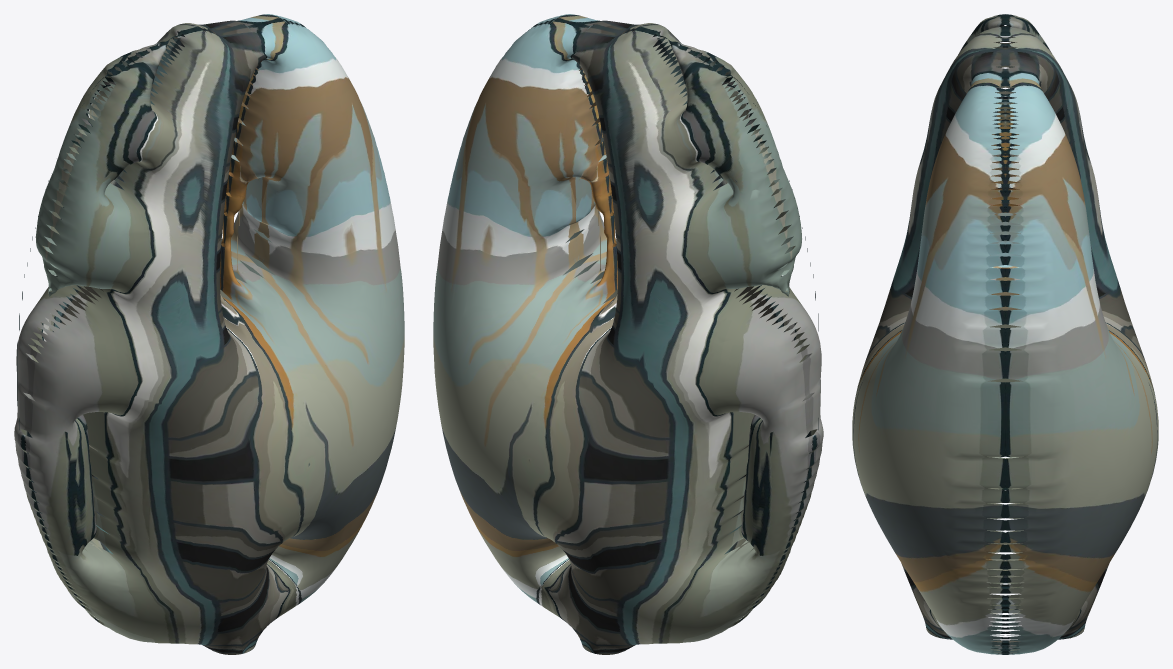
The model's file is side_drive.glb.
3 renders of one model, left to right at view 1: azimuth 30°, elevation 25°; view 2: azimuth 150°, elevation 25°; view 3: azimuth 270°, elevation 25°, orthographic.
Parts seen in each view (by area): view 1: side_drive; view 2: side_drive; view 3: side_drive.
Boxes of the visible parts, box(x1,y1,x2,y2) form: side_drive: box(14, 14, 404, 654); side_drive: box(433, 14, 823, 654); side_drive: box(852, 14, 1158, 654).
Size of the model in its own units: 0.985 by 1.54 by 0.7249.
1 material, 1 textured.
